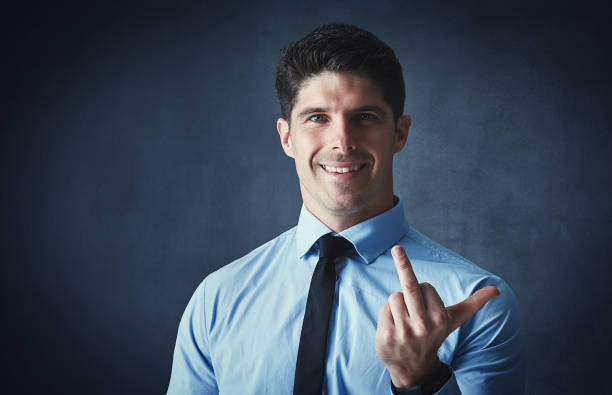insulting_gesture: (374, 243, 497, 394)
